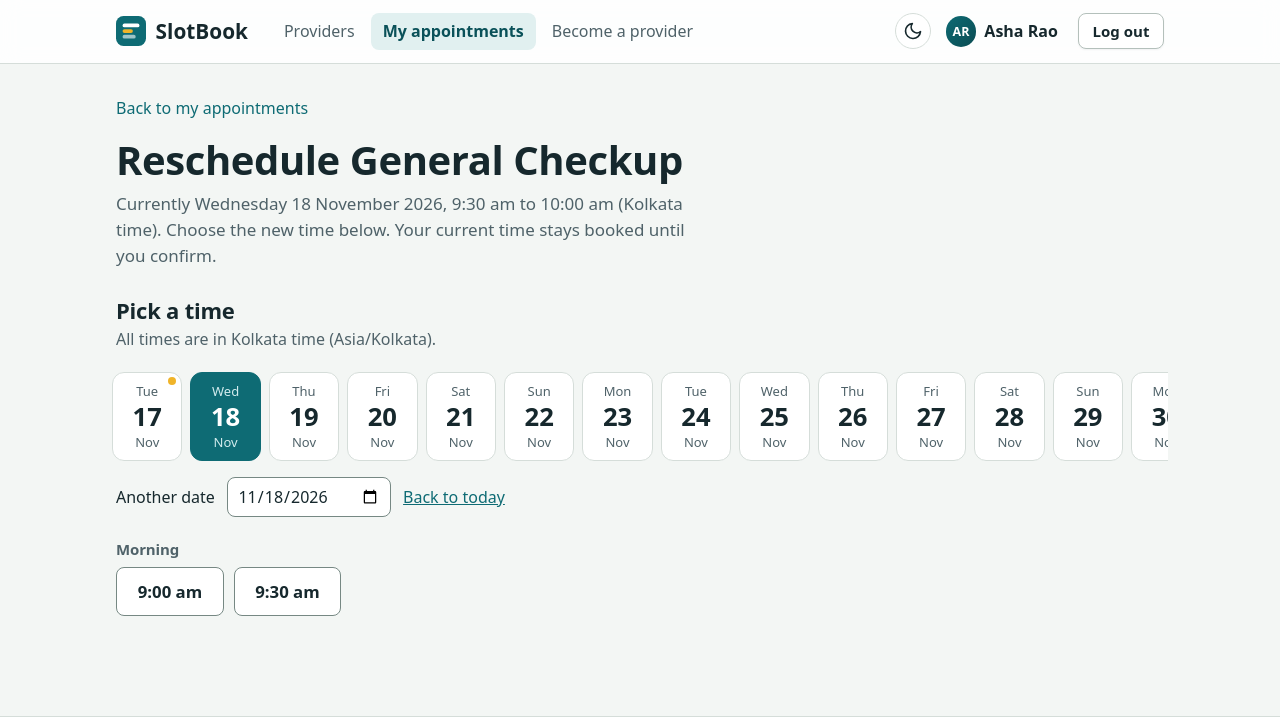
Test: rescheduling › moves the appointment to the chosen slot
Click the button "9:30 am": (287, 592) [234,567,341,616]
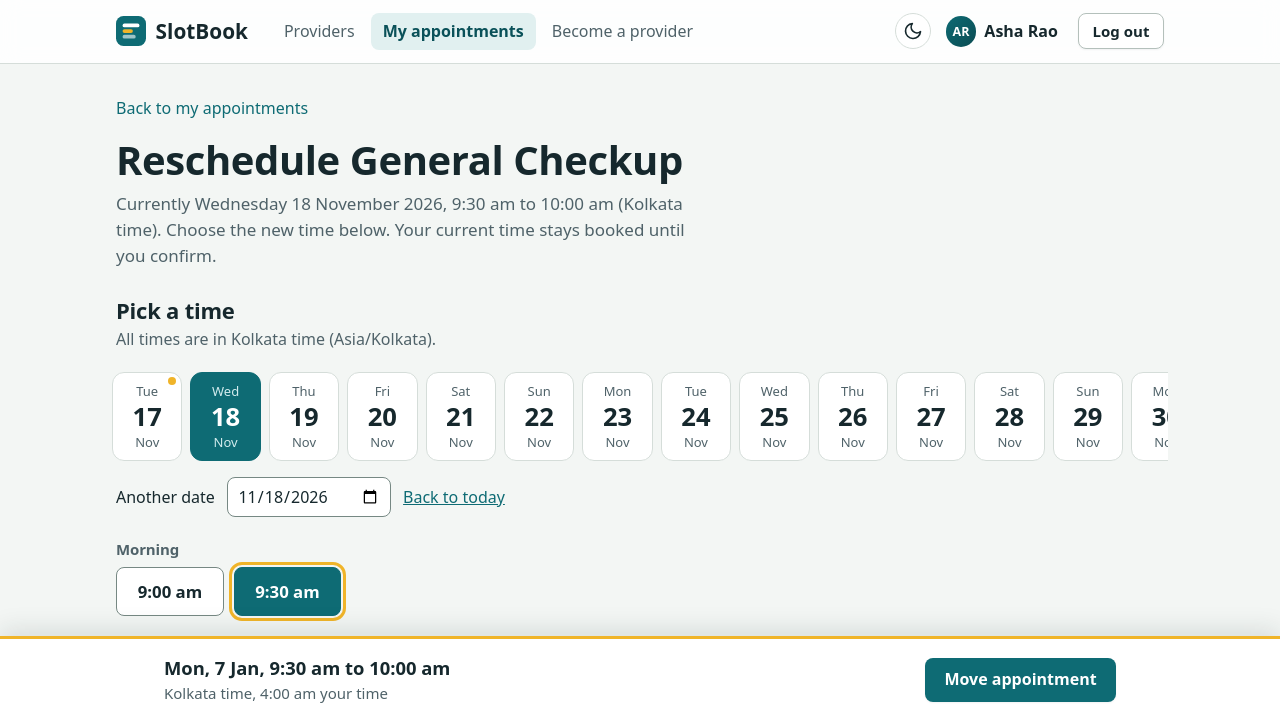
Click the button "Move appointment": (1020, 680) [925,658,1116,702]
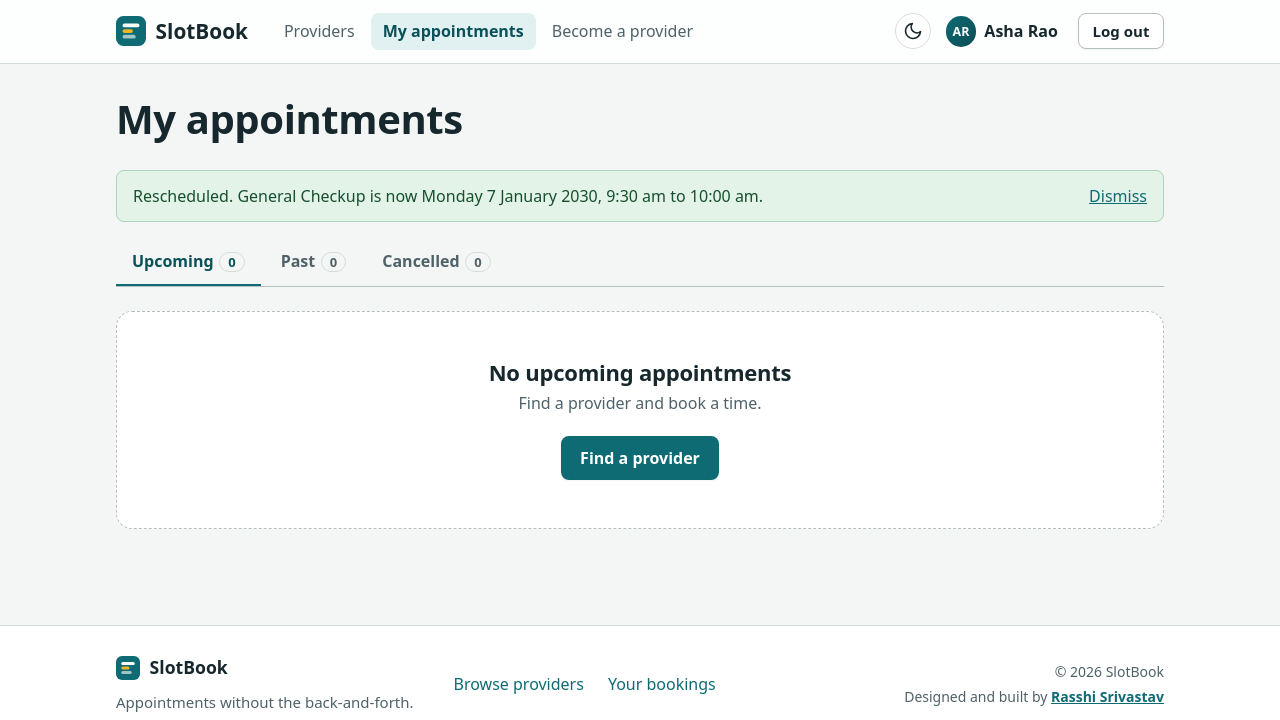
Check: the text "Rescheduled. General Checkup is now" is shown, box [133,185,763,207]
